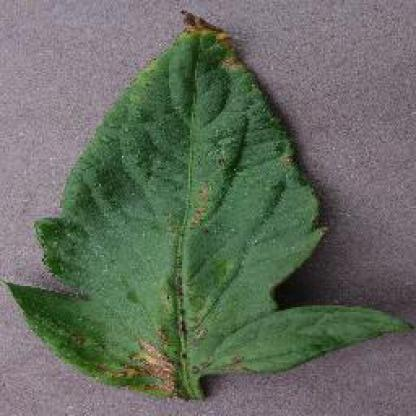bad leaf: (17, 42, 391, 410)
